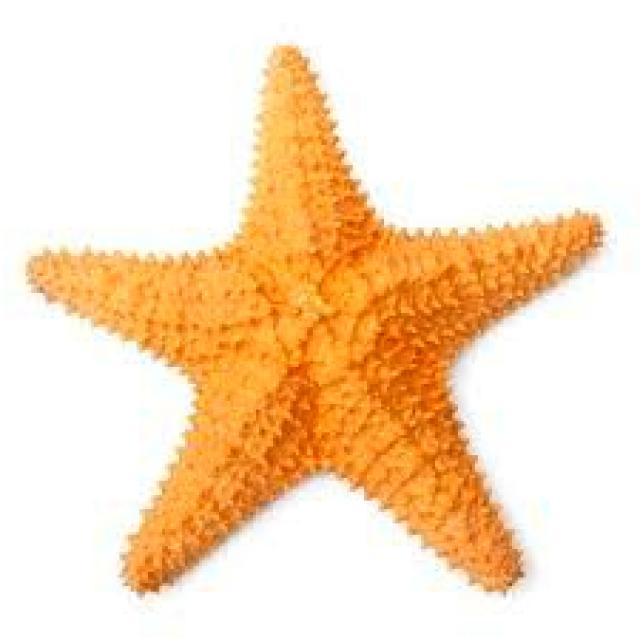starfish: (31, 46, 600, 589)
